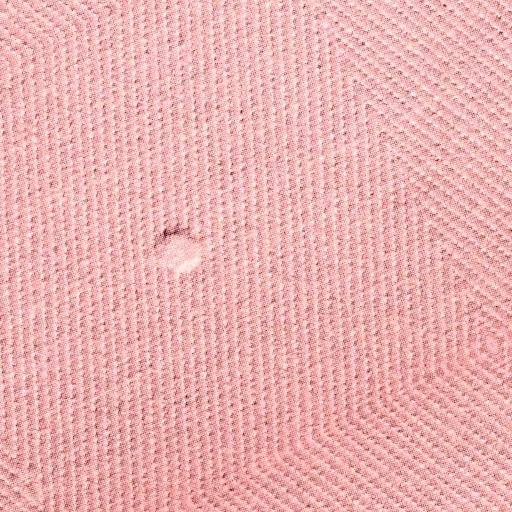knot: (149, 217, 217, 280)
